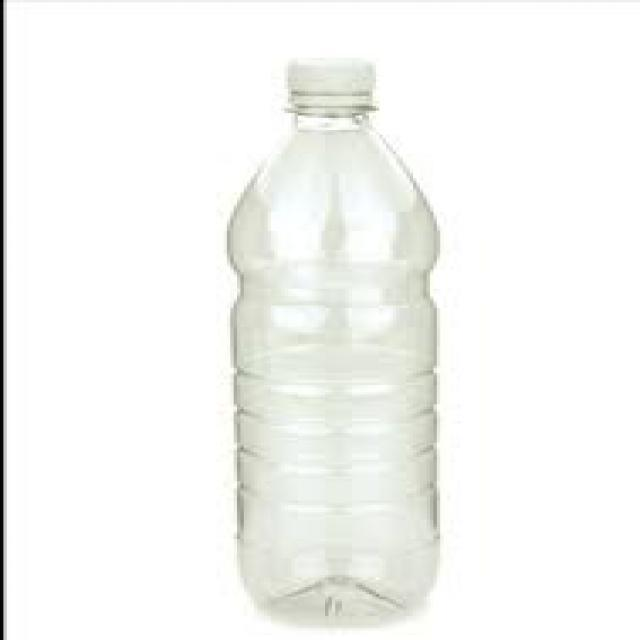Plastic: (226, 62, 435, 624)
